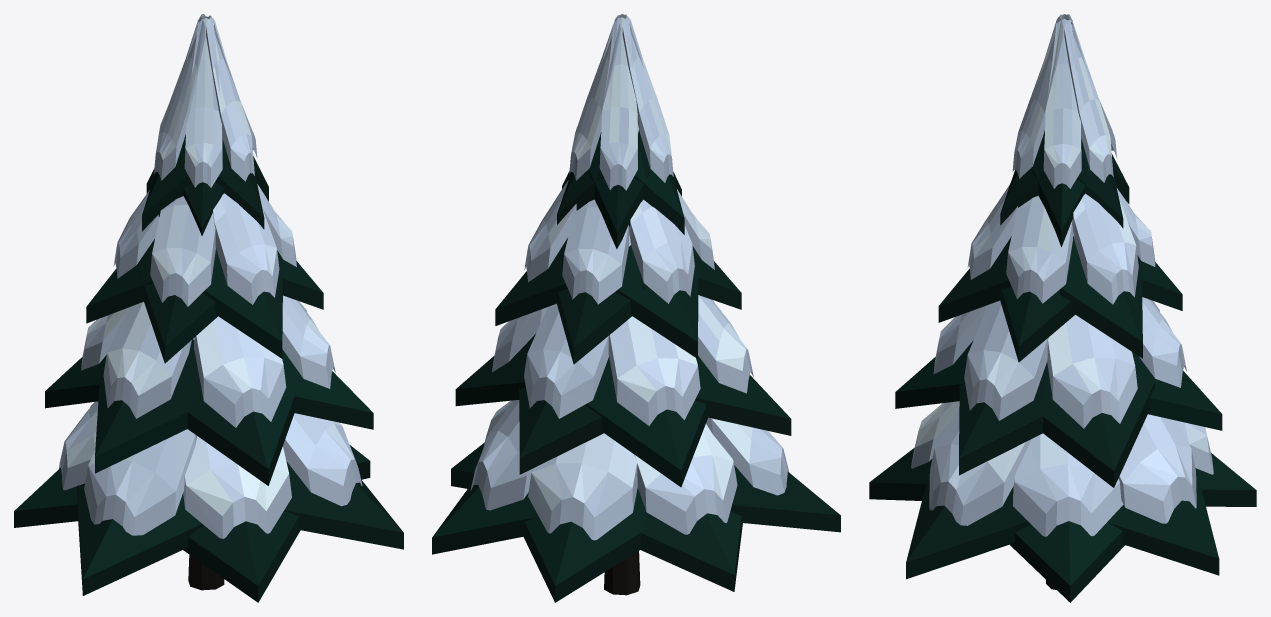
File: ConceptCedar0.fbx
The picture shows the model from 3 angles, left to right: view 1: azimuth 30°, elevation 25°; view 2: azimuth 150°, elevation 25°; view 3: azimuth 270°, elevation 25°; orthographic projection.
Visible parts, largest first — view 1: ConceptCedar0; view 2: ConceptCedar0; view 3: ConceptCedar0.
Part boxes in pixels (x1=…): ConceptCedar0: x1=14, y1=14, x2=403, y2=602; ConceptCedar0: x1=432, y1=14, x2=840, y2=602; ConceptCedar0: x1=869, y1=14, x2=1256, y2=602.
Bounding box in the file's own units: 2.5 × 4.02 × 2.48.
